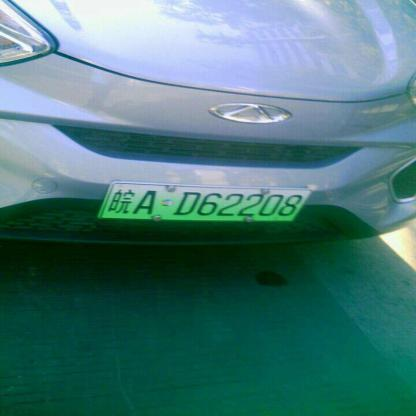lp: (100, 182, 311, 219)
